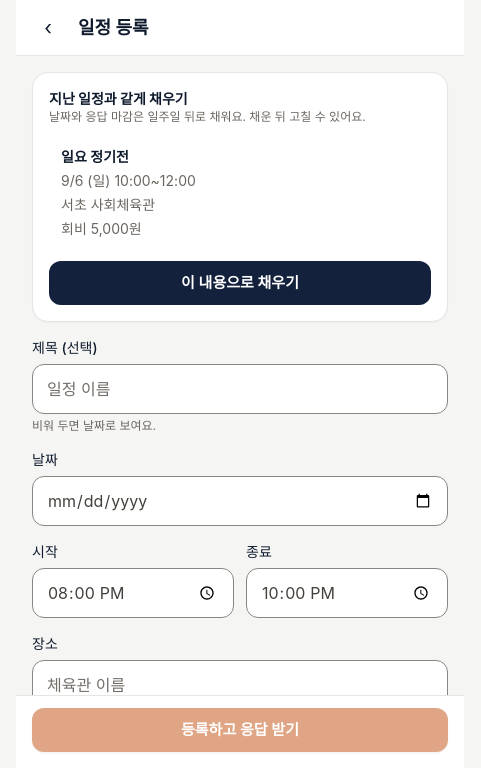
Test: EventCreatePage › 지난 일정을 채운 뒤에도 시작을 바꾸면 그 일정의 길이만큼 종료가 따라온다
Click the button "이 내용으로 채우기". click: (240, 283)
box: [49,261,431,305]
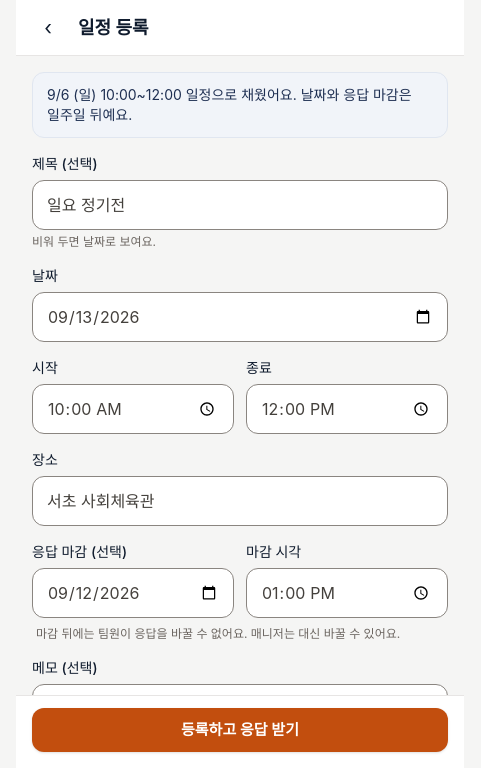
Result: the time field labelled "시작" holds "10:00"
Result: the time field labelled "종료" holds "12:00" at [246,384,448,434]
Replace the text in the time field labelled "시작" with "19:00". click: (133, 409)
box: [32,384,234,434]
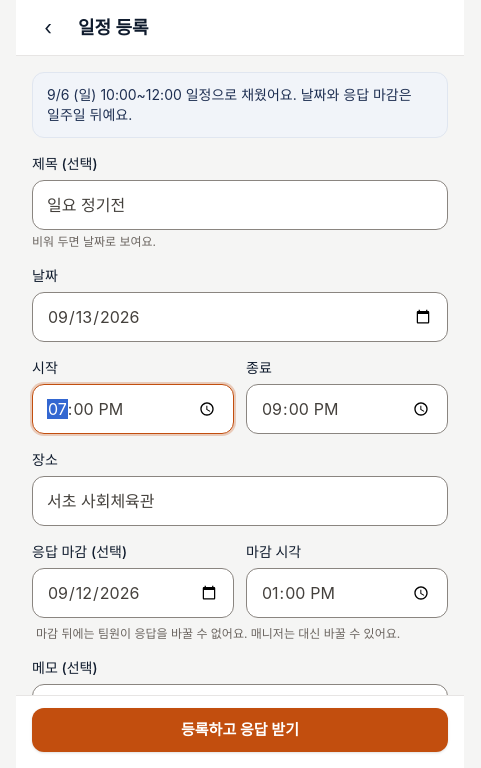
Result: the time field labelled "종료" holds "21:00" at [246,384,448,434]
